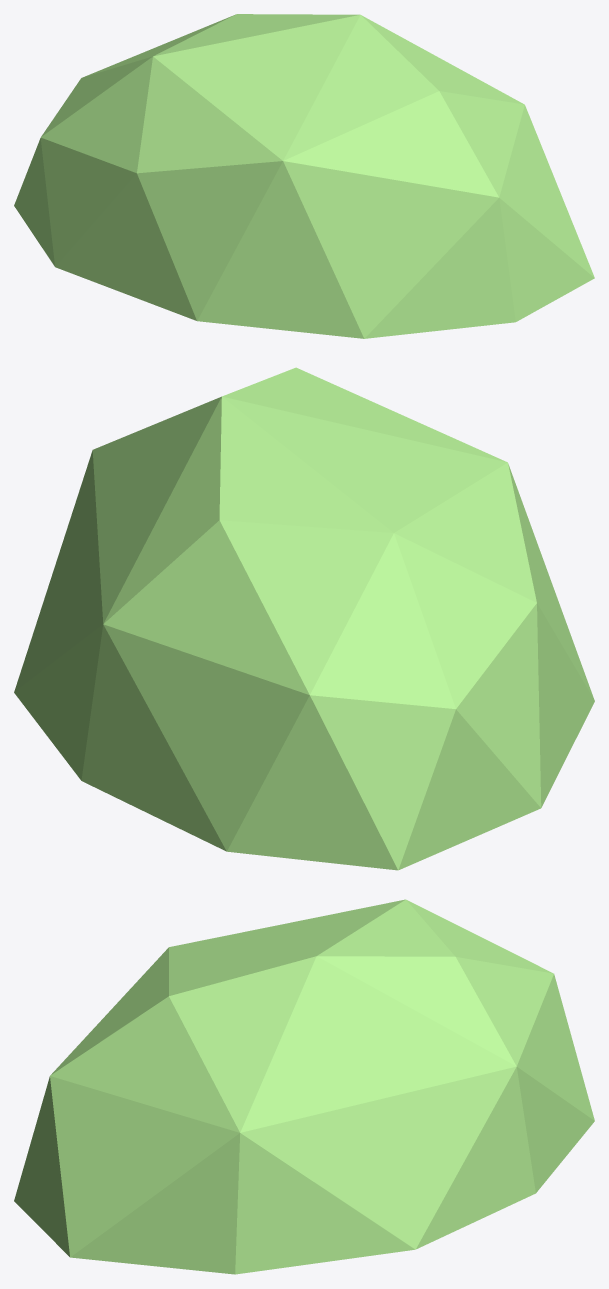
The model's file is Bush_h_m_02.fbx.
3 views of the same model, one above another, from view 1: azimuth 30°, elevation 25°; view 2: azimuth 150°, elevation 25°; view 3: azimuth 270°, elevation 25° (orthographic). The views are drawn at different scales.
Parts seen in each view (by area): view 1: Bush_h_m_02; view 2: Bush_h_m_02; view 3: Bush_h_m_02.
Part boxes in pixels (bbox=[...]): Bush_h_m_02: bbox=[14, 14, 594, 338]; Bush_h_m_02: bbox=[14, 367, 594, 870]; Bush_h_m_02: bbox=[14, 899, 594, 1274].
Size of the model in its own units: 149 by 71.25 by 160.
